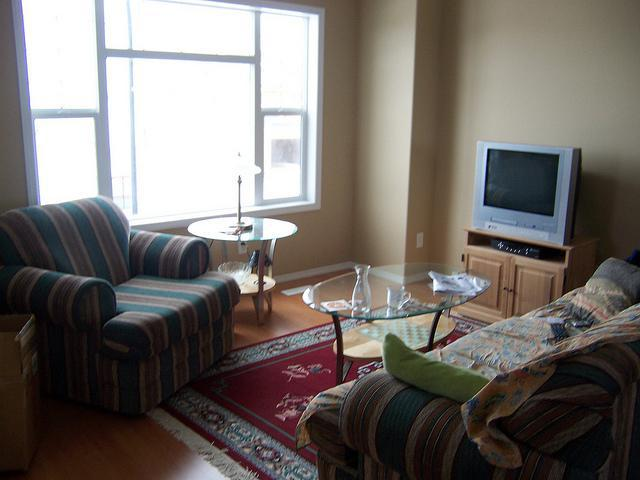tv: (474, 137, 572, 245)
